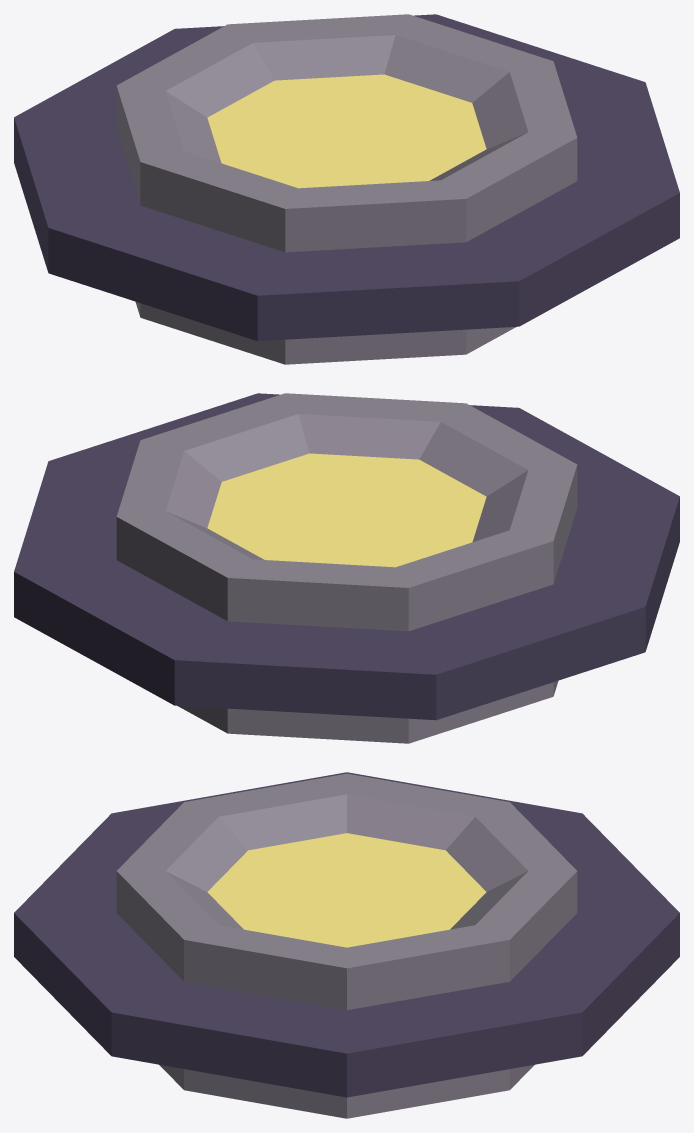
File: hologram fbx.fbx
3 views of the same model, one above another, from view 1: azimuth 30°, elevation 25°; view 2: azimuth 150°, elevation 25°; view 3: azimuth 270°, elevation 25° (orthographic). The views are drawn at different scales.
Parts seen in each view (by area): view 1: pCylinder2, pCylinder1; view 2: pCylinder2, pCylinder1; view 3: pCylinder2, pCylinder1.
Part boxes in pixels (x1,y1,x2,y2): pCylinder2: [116, 14, 577, 364]; pCylinder1: [14, 14, 679, 341]; pCylinder2: [116, 393, 577, 743]; pCylinder1: [14, 393, 679, 720]; pCylinder2: [116, 773, 577, 1118]; pCylinder1: [14, 772, 679, 1097].
Bounding box in the file's own units: 2.64 × 0.6581 × 2.64.
